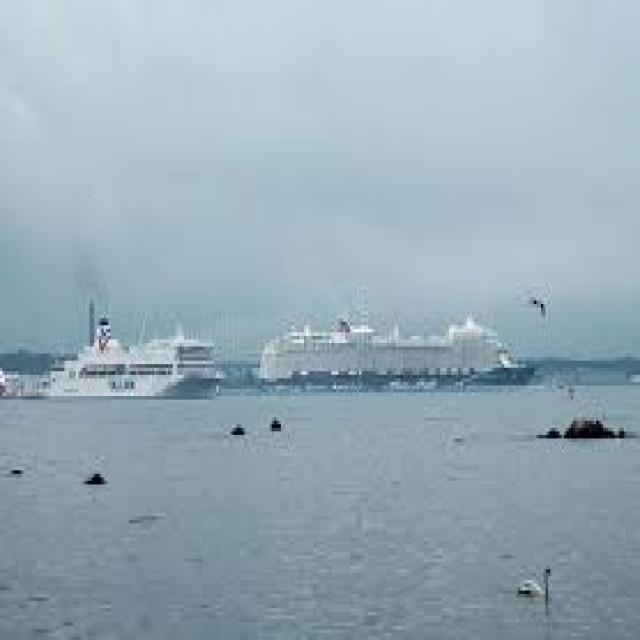passenger ship: (264, 308, 532, 393), (45, 305, 217, 413)
